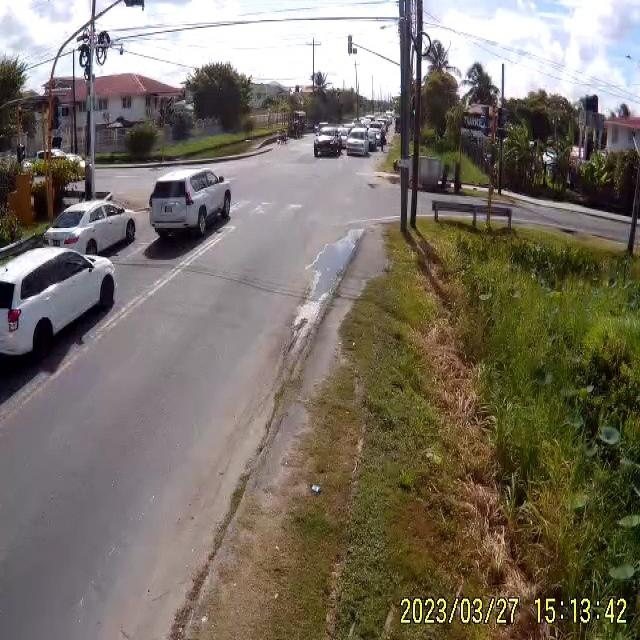car: (0, 242, 119, 375), (147, 171, 233, 238), (40, 199, 139, 256), (312, 133, 341, 158), (344, 125, 368, 155), (367, 126, 386, 149)
